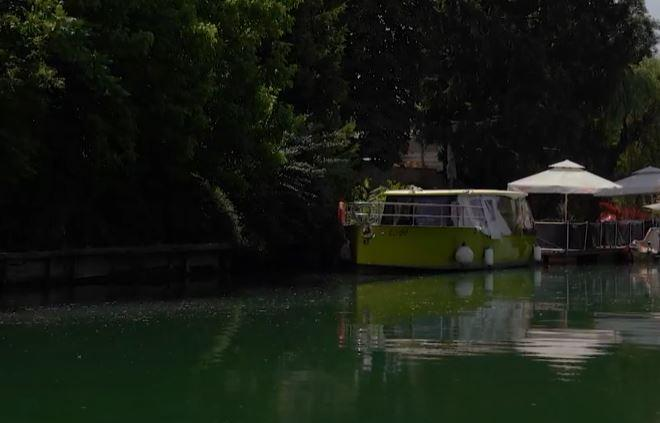Ship: (338, 184, 545, 275)
